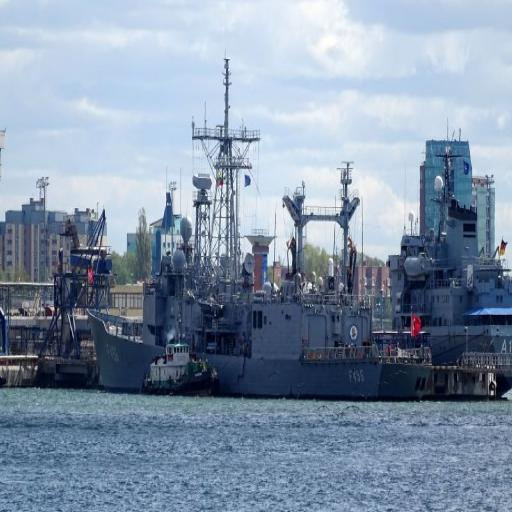Fragata: (88, 80, 449, 396)
